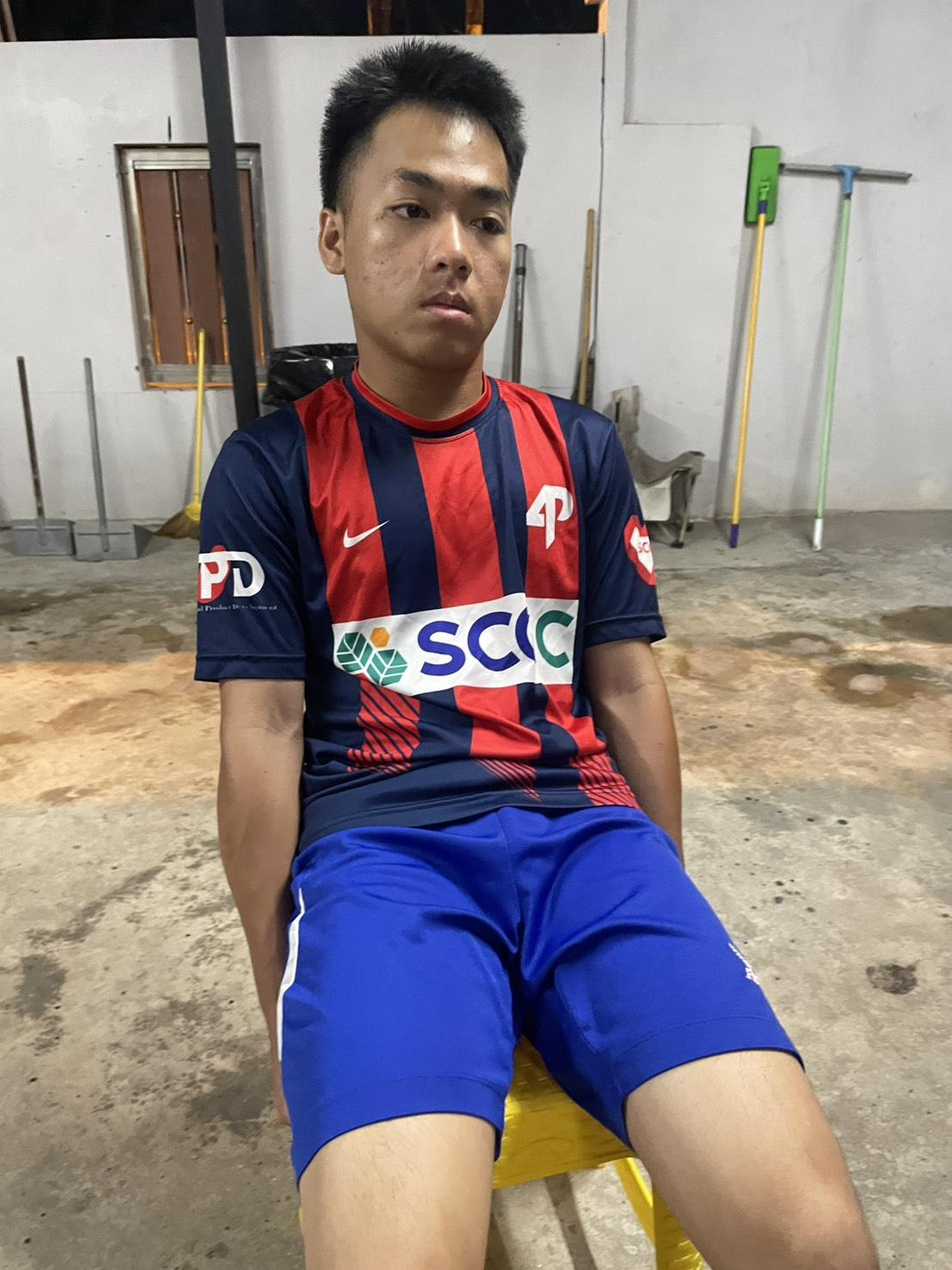BadPosture: (196, 42, 680, 880), (195, 41, 680, 825)
